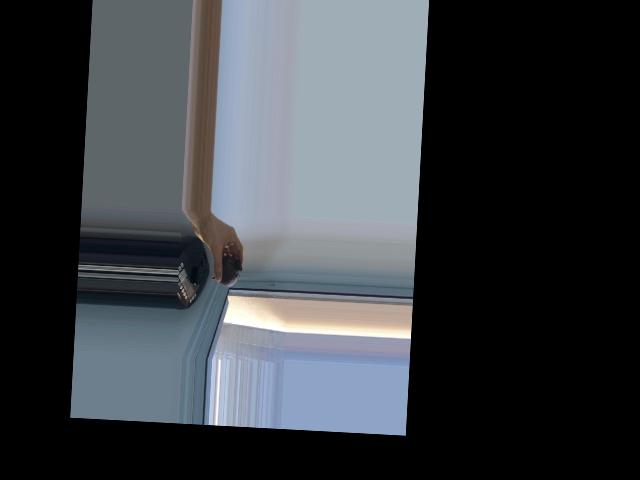beet: (210, 251, 242, 287)
